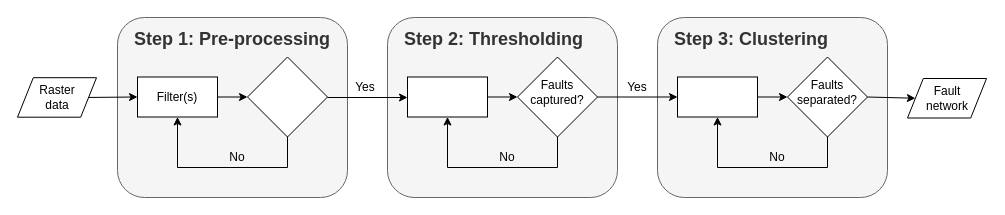
Image size: 1005x215. Some labels were removed from this diagram. Each missing label, with the centre of its shape:
"Classify" belongs at point (717, 96).
"Faults visible?" belongs at point (287, 96).
"Threshold" belongs at point (447, 96).
